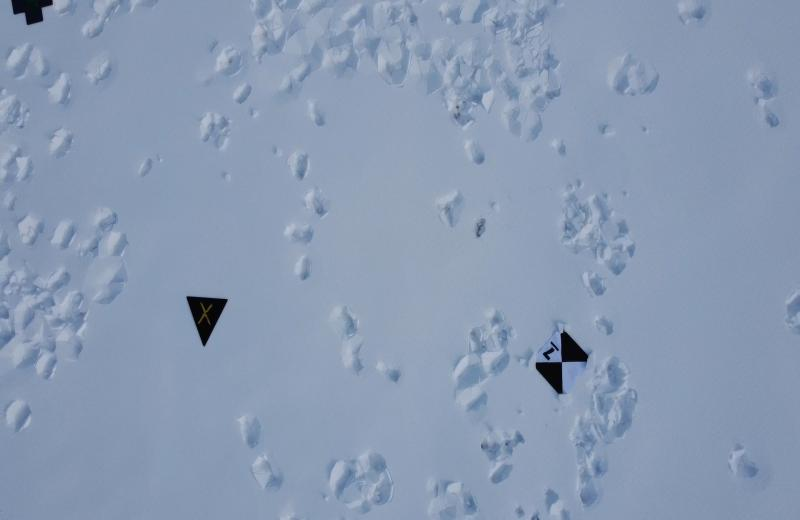Cross: (6, 0, 56, 28)
Triangle: (184, 293, 228, 347)
